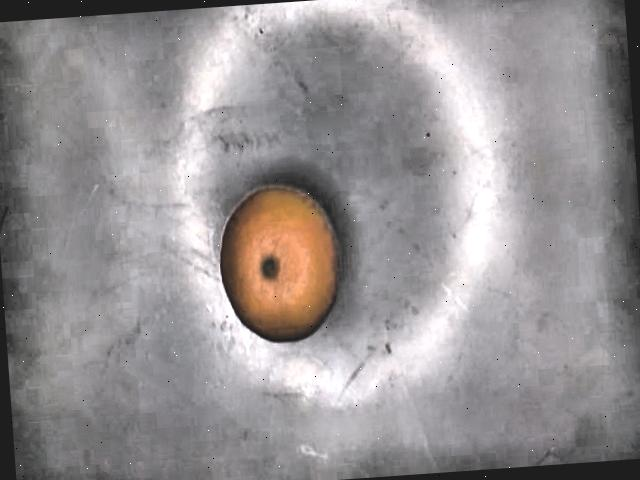Almennt: (219, 186, 339, 342)
